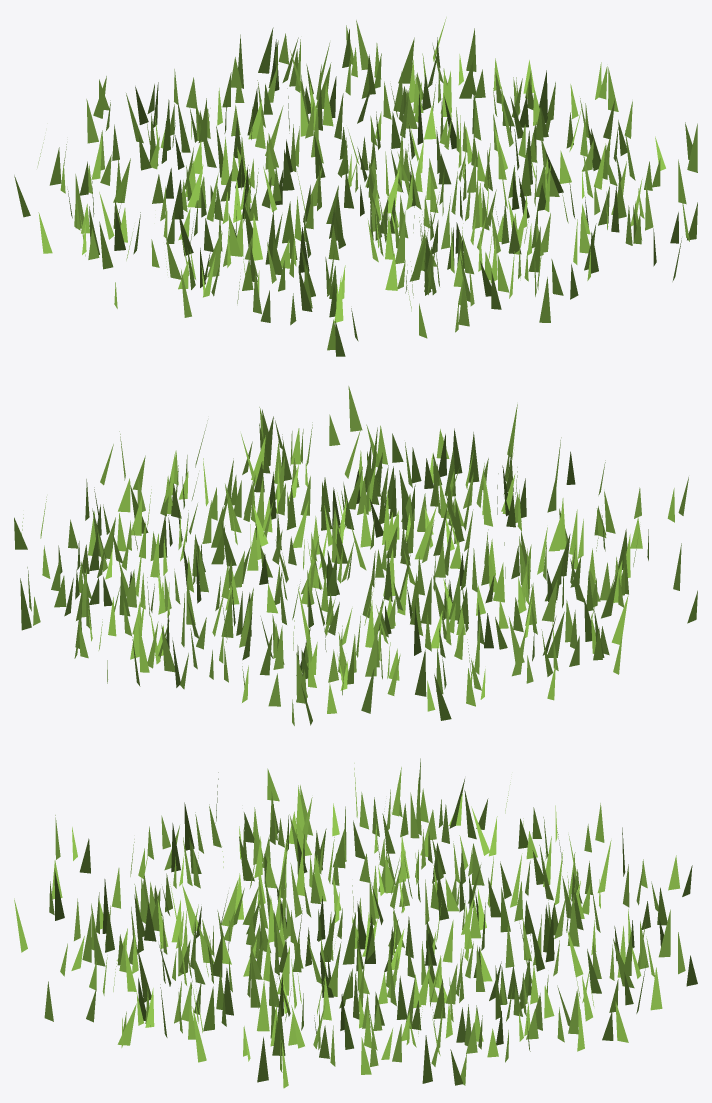
Rendered from GrassA.glb.
3 renders of one model, top to bottom at view 1: azimuth 30°, elevation 25°; view 2: azimuth 150°, elevation 25°; view 3: azimuth 270°, elevation 25°, orthographic.
Parts seen in each view (by area): view 1: GrassA.bladesMid, GrassA.bladesDark, GrassA.bladesLight; view 2: GrassA.bladesMid, GrassA.bladesDark, GrassA.bladesLight; view 3: GrassA.bladesMid, GrassA.bladesDark, GrassA.bladesLight.
Boxes of the visible parts, <box> form: GrassA.bladesMid: <box>37,25,697,338</box>; GrassA.bladesDark: <box>67,20,697,356</box>; GrassA.bladesLight: <box>14,17,665,350</box>; GrassA.bladesMid: <box>14,404,697,725</box>; GrassA.bladesDark: <box>33,386,688,725</box>; GrassA.bladesLight: <box>20,427,674,706</box>; GrassA.bladesMid: <box>14,767,680,1088</box>; GrassA.bladesDark: <box>44,772,697,1082</box>; GrassA.bladesLight: <box>72,758,628,1072</box>.
Size of the model in its own units: 8.3 by 0.6998 by 8.27.
